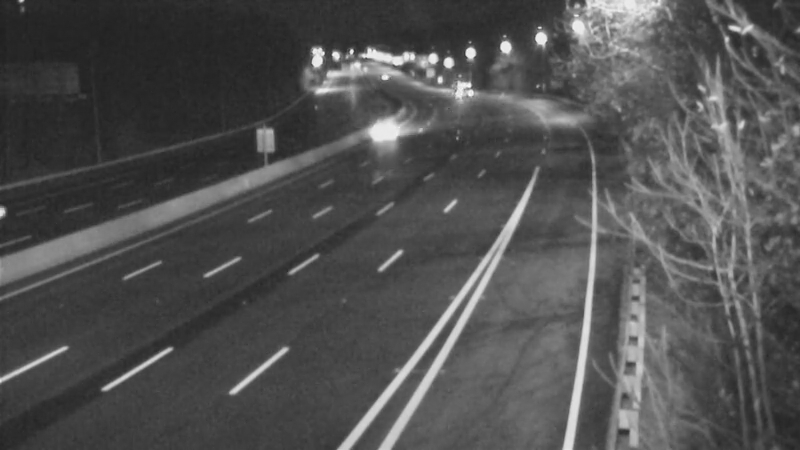vehicle: (1, 171, 67, 251), (357, 50, 407, 100), (434, 63, 484, 113), (366, 105, 416, 155)
